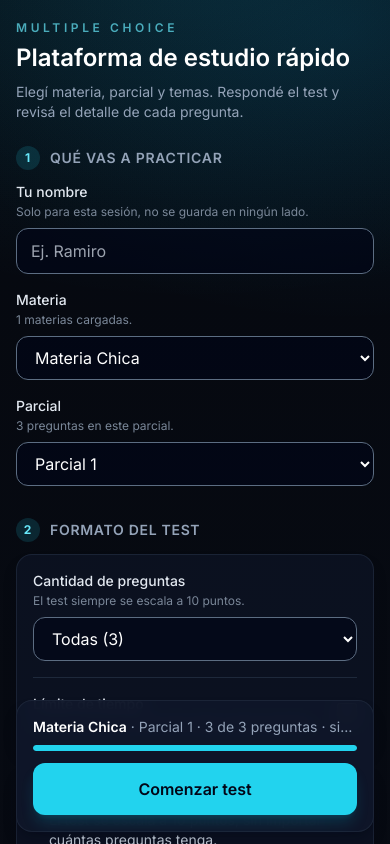
TestApp · durante el test › la barra inferior de celular navega entre preguntas y abre el índice
The width and height of the screenshot is (390, 844).
Click the button "Comenzar test". click: [195, 789]
box: [33, 763, 357, 815]
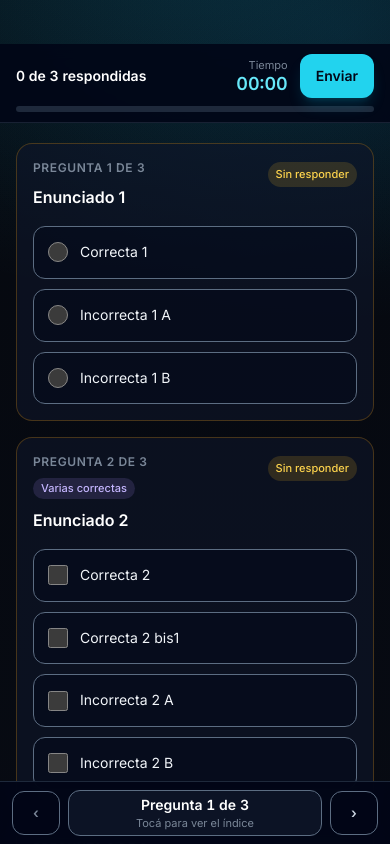
Expected: the button named "pregunta anterior" is disabled, [12, 791, 60, 835]
Expected: the button named "pregunta siguiente" is enabled
Click the button named "pregunta siguiente". click: [354, 813]
box: [330, 791, 378, 835]
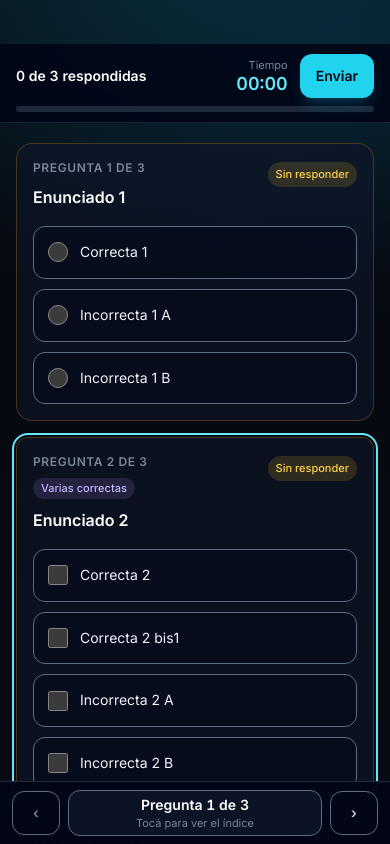
Click the button "Pregunta 1 de 3 Tocá para ver el índice". click: [195, 813]
box: [68, 790, 322, 836]
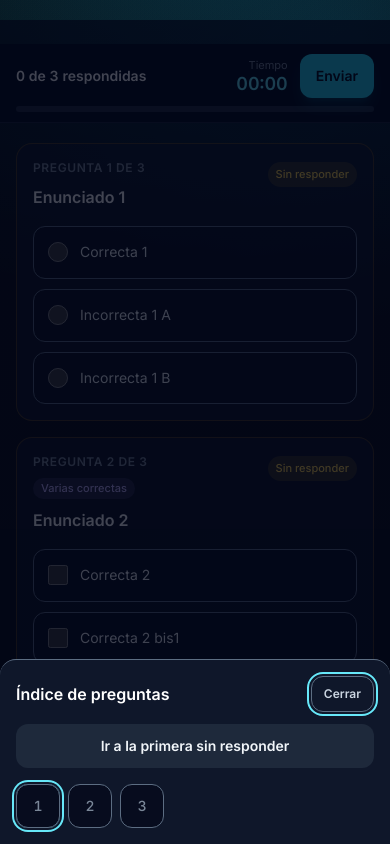
Expected: the button "Ir a la primera sin responder" is shown, [16, 724, 374, 768]
Click the button "Cerrar". click: [342, 694]
box: [311, 676, 374, 712]
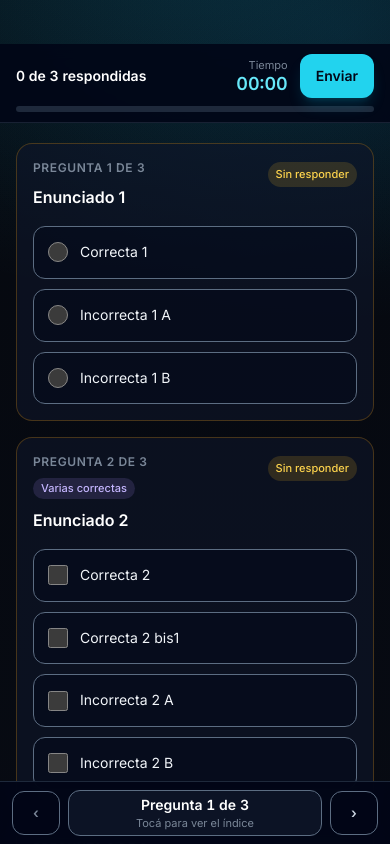
Expected: the heading "Índice de preguntas" is gone
